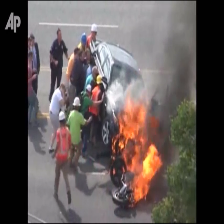fire_h: (118, 92, 163, 204)
fire_l: (112, 133, 120, 152), (112, 168, 116, 175), (110, 155, 115, 160), (122, 166, 125, 172)
